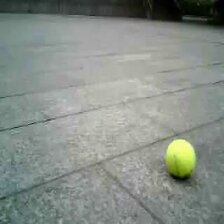tennis: (164, 139, 195, 174)
